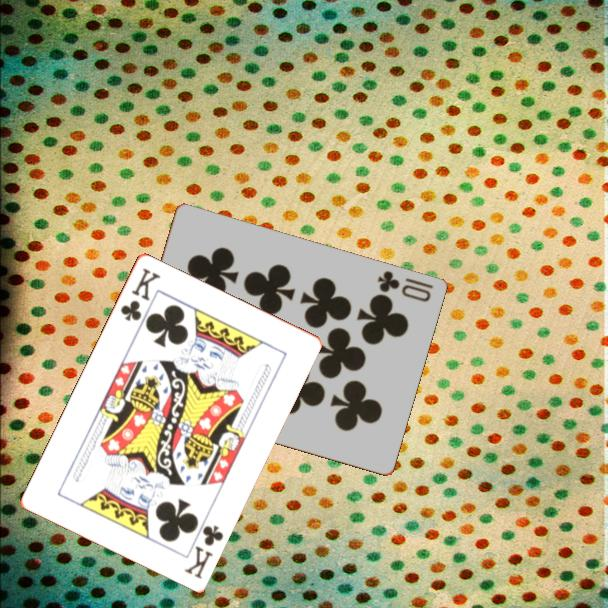c10: (373, 267, 436, 305)
c13: (180, 521, 226, 582), (117, 264, 163, 323)
